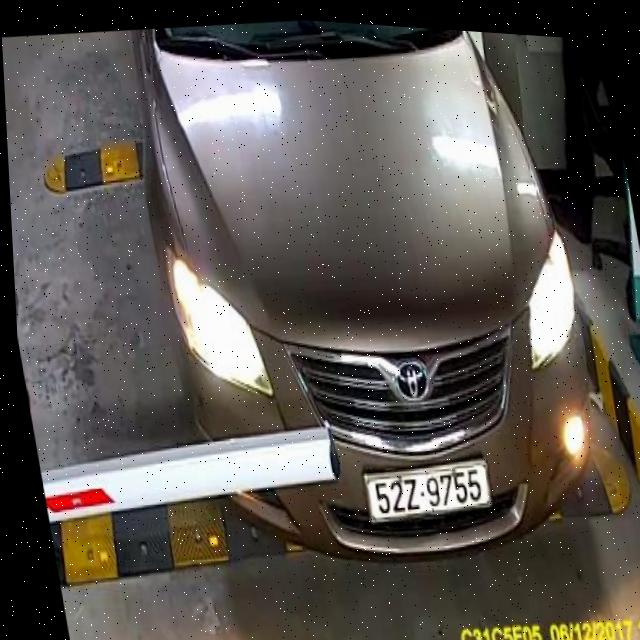car: (119, 8, 628, 604)
plate: (354, 451, 506, 533)
